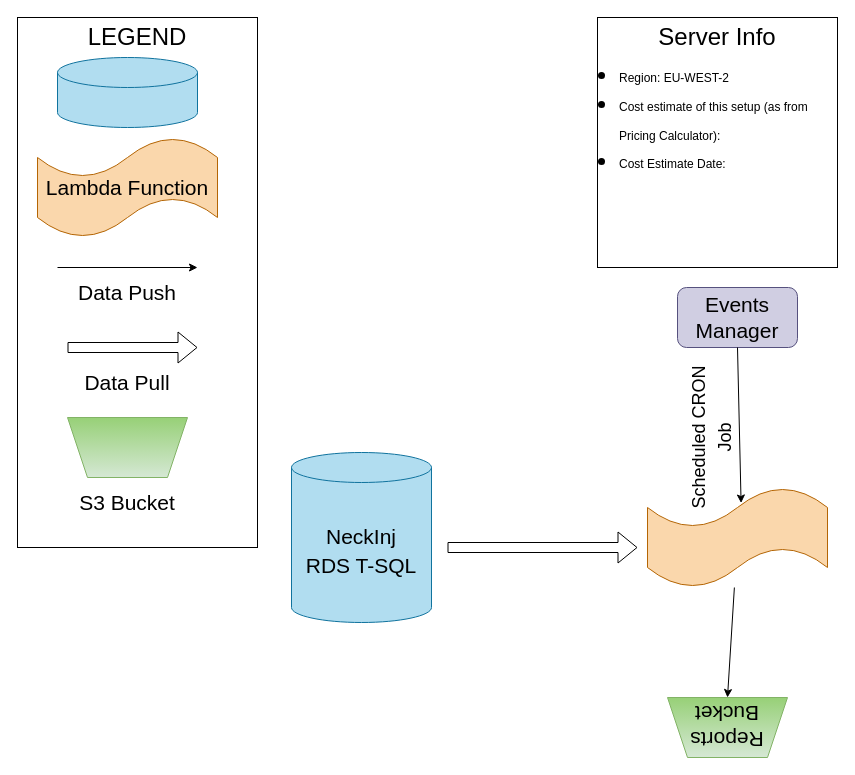
This 855x775 diagram has some shape labels left out. Here are the shapes that lost their labels. From the top down, the centre of each, then its label:
At (127,92): "TABLE".
At (737,537): "NeckInj_report.py".
